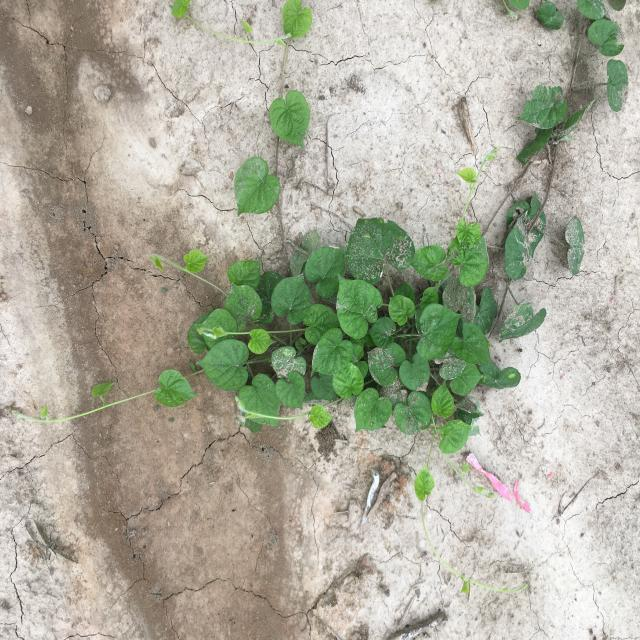MorningGlory: (13, 1, 630, 594)
